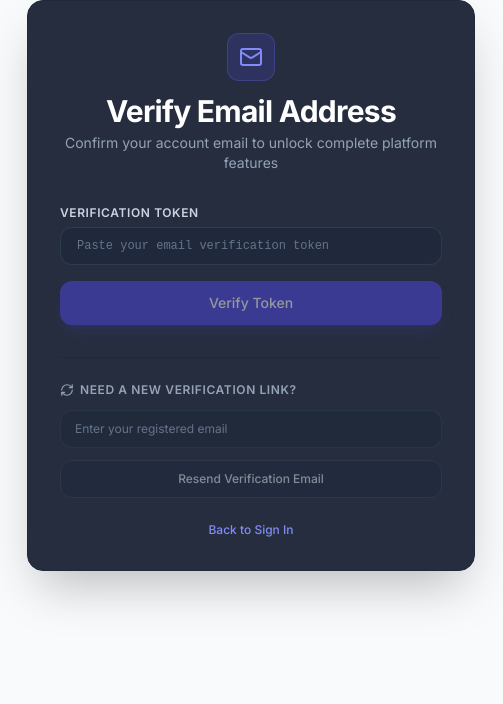
Scenario: Frontend Authentication Pages & Interactivity › VerifyEmailPage › allows manual token verification and resending link
Expected: the field labelled "Verification Token" is shown, x1=60 y1=227 x2=442 y2=265
Type "student@learnova.ai" into the field with placeholder "Enter your registered email" at {"x": 251, "y": 429}, box x1=60 y1=410 x2=442 y2=448
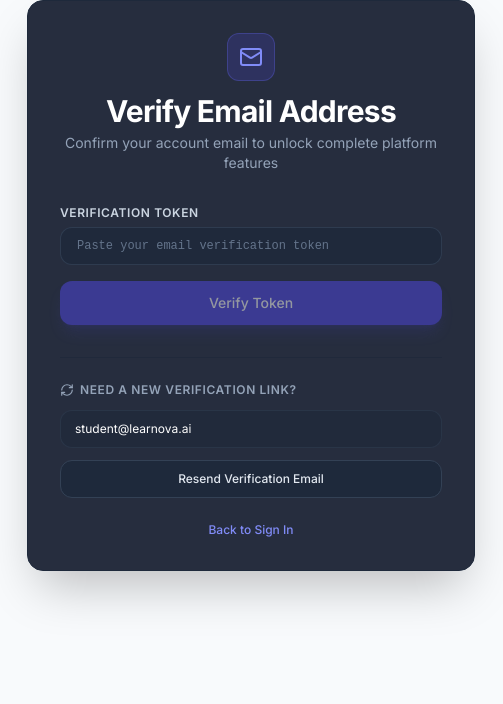
Click the button "Resend Verification Email" at {"x": 251, "y": 479}, box x1=60 y1=460 x2=442 y2=498
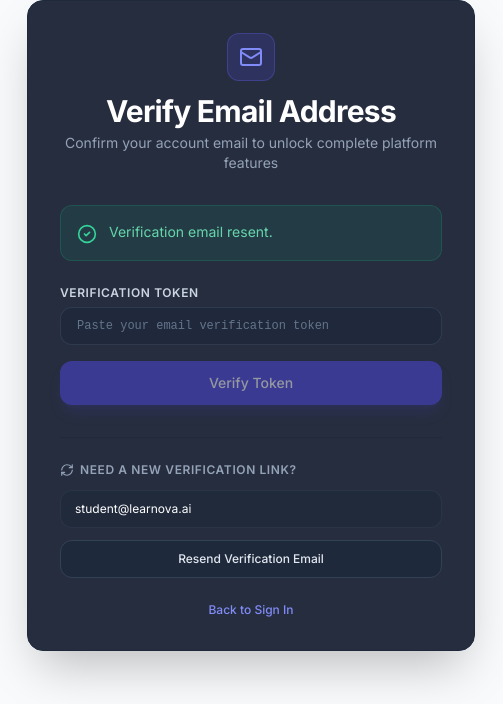
Now the text "Verification email resent." is shown, box x1=109 y1=222 x2=273 y2=242
